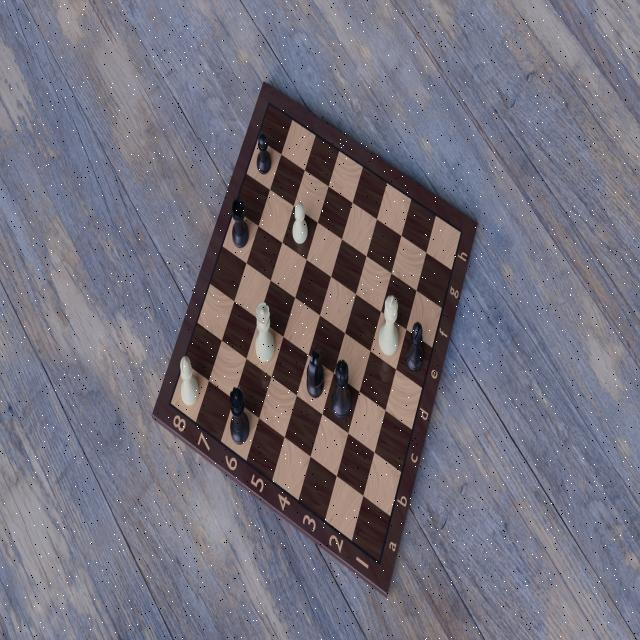black-bishop: (402, 320, 425, 372)
black-king: (329, 354, 352, 421)
black-knight: (304, 342, 328, 400)
black-pawn: (254, 131, 274, 176)
black-queen: (225, 384, 252, 446)
black-rook: (230, 195, 250, 249)
white-bishop: (175, 354, 200, 409)
white-king: (376, 293, 399, 355)
white-pawn: (290, 202, 309, 246)
white-queen: (253, 300, 278, 371)
